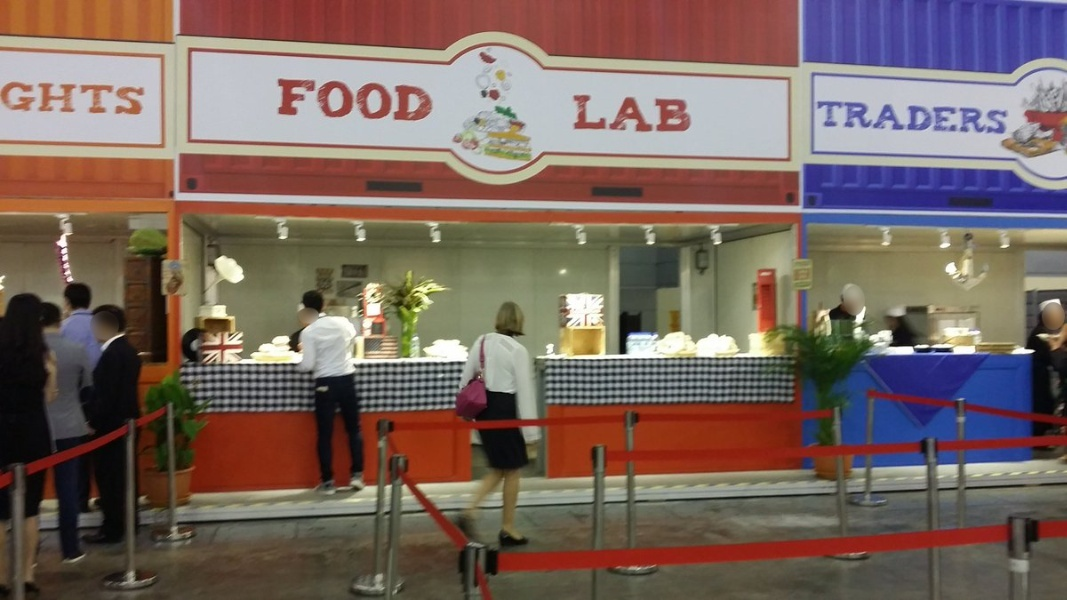text: (289, 75, 304, 125), (305, 75, 320, 125), (321, 75, 336, 125), (337, 75, 352, 125), (353, 75, 368, 125), (369, 75, 384, 125), (385, 75, 400, 125), (401, 75, 416, 125), (417, 75, 432, 125), (577, 94, 592, 133), (593, 94, 608, 133), (609, 94, 624, 133), (625, 94, 640, 133), (641, 94, 656, 133), (657, 94, 672, 133), (673, 94, 688, 133), (817, 97, 832, 136), (833, 97, 848, 136), (849, 97, 864, 136), (865, 97, 880, 136), (881, 97, 896, 136), (897, 97, 912, 136), (913, 97, 928, 136), (929, 97, 944, 136), (945, 97, 960, 136), (961, 97, 976, 136), (977, 97, 992, 136), (993, 97, 1008, 136), (277, 75, 288, 125), (1, 80, 16, 115), (17, 80, 32, 115), (33, 80, 48, 115), (49, 80, 64, 115), (65, 80, 80, 115), (81, 80, 96, 115), (97, 80, 112, 115), (113, 80, 128, 115), (129, 80, 144, 115), (571, 94, 576, 133), (689, 94, 693, 133), (1009, 97, 1012, 136), (145, 80, 147, 115), (433, 75, 434, 125)
